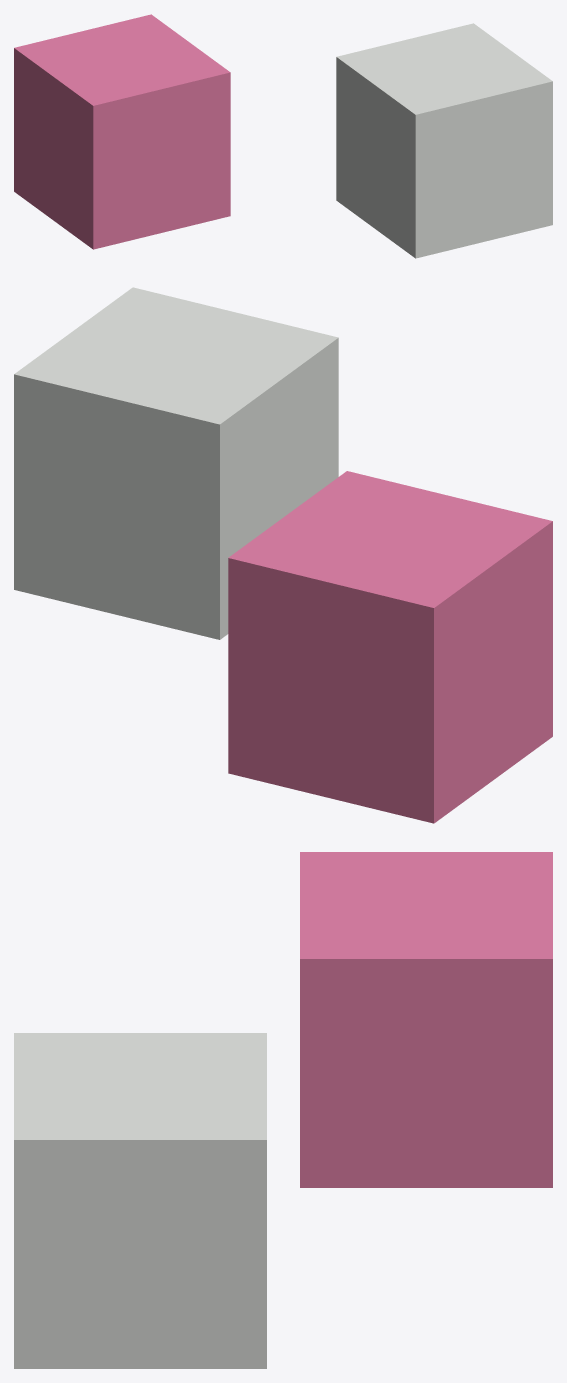
3 renders of one model, top to bottom at view 1: azimuth 30°, elevation 25°; view 2: azimuth 150°, elevation 25°; view 3: azimuth 270°, elevation 25°, orthographic. The views are drawn at different scales.
Visible parts, largest first — view 1: Cube, Cube.001; view 2: Cube.001, Cube; view 3: Cube, Cube.001.
Boxes of the visible parts, x1=… form: Cube: x1=336, y1=23, x2=552, y2=258; Cube.001: x1=14, y1=14, x2=230, y2=249; Cube.001: x1=228, y1=471, x2=552, y2=823; Cube: x1=14, y1=287, x2=338, y2=639; Cube: x1=14, y1=1033, x2=266, y2=1368; Cube.001: x1=300, y1=852, x2=552, y2=1187.
Size of the model in its own units: 5.39 by 2 by 4.26.
